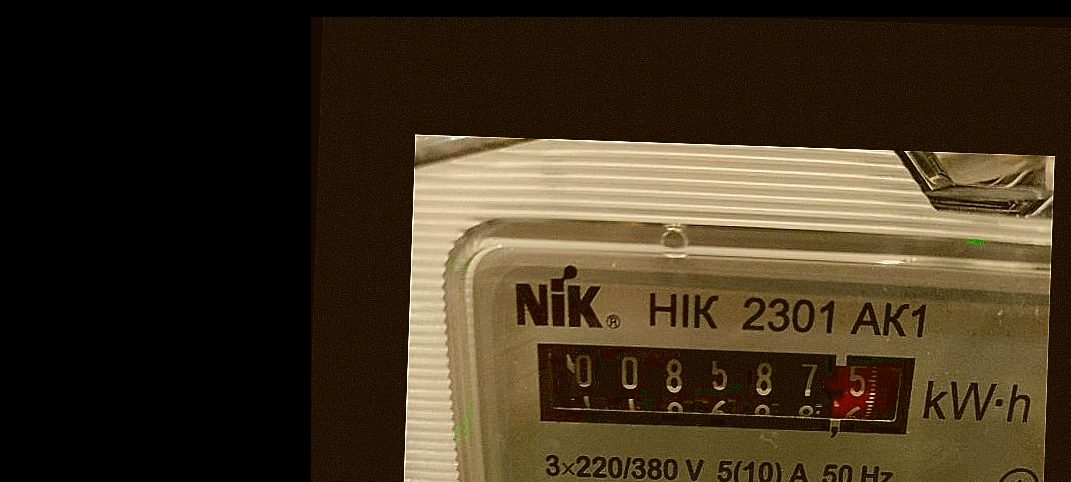0: (617, 351, 642, 392)
1: (571, 349, 596, 391)
5: (846, 360, 871, 400), (708, 355, 732, 394)
7: (797, 359, 821, 401)
8: (661, 355, 687, 396), (753, 358, 775, 399)
screen: (514, 323, 936, 456)
